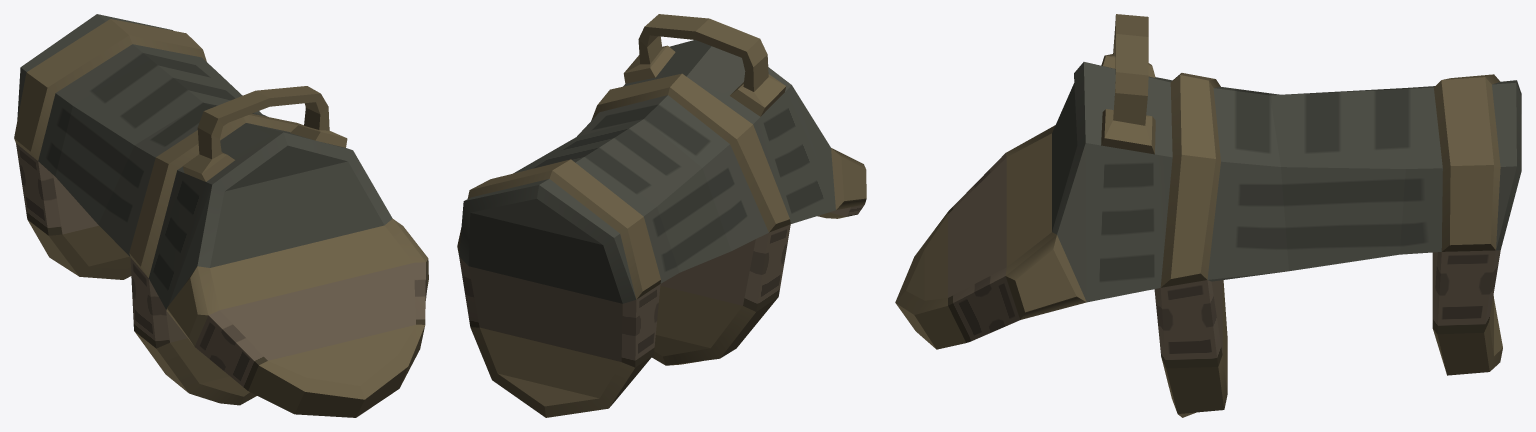
The model's file is SK_Chr_Attach_Vest_Military_Large_01.fbx.
The picture shows the model from 3 angles, left to right: view 1: azimuth 30°, elevation 25°; view 2: azimuth 150°, elevation 25°; view 3: azimuth 270°, elevation 25°; orthographic projection. The views are drawn at different scales.
Parts seen in each view (by area): view 1: SK_Chr_Attach_Vest_Military_Large_01; view 2: SK_Chr_Attach_Vest_Military_Large_01; view 3: SK_Chr_Attach_Vest_Military_Large_01.
Boxes of the visible parts, <box> form: SK_Chr_Attach_Vest_Military_Large_01: <box>14,14,428,417</box>; SK_Chr_Attach_Vest_Military_Large_01: <box>457,14,866,417</box>; SK_Chr_Attach_Vest_Military_Large_01: <box>895,14,1521,417</box>.
Bounding box in the file's own units: 34.71 × 45.42 × 67.62.
